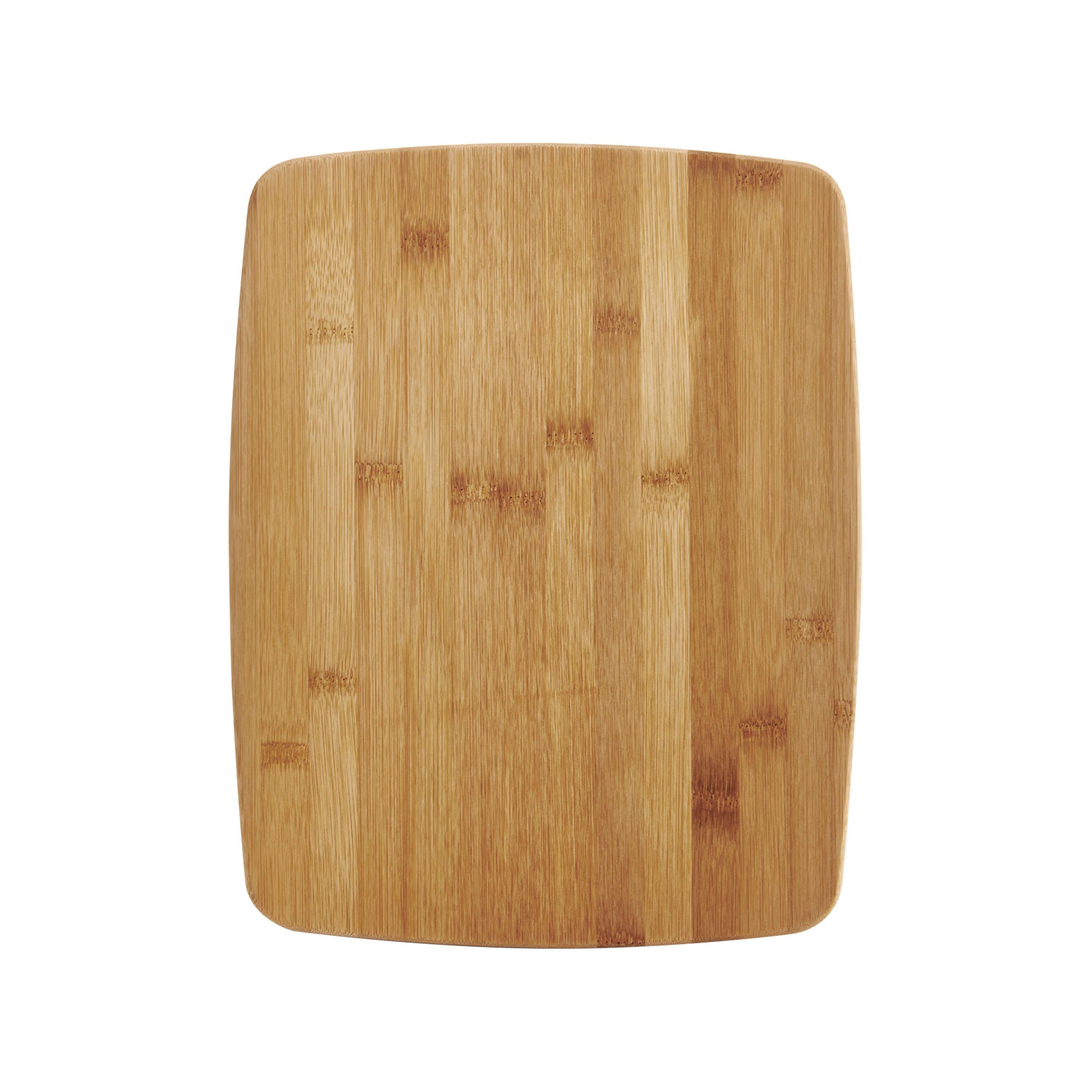gloved_hand: (197, 121, 876, 972)
